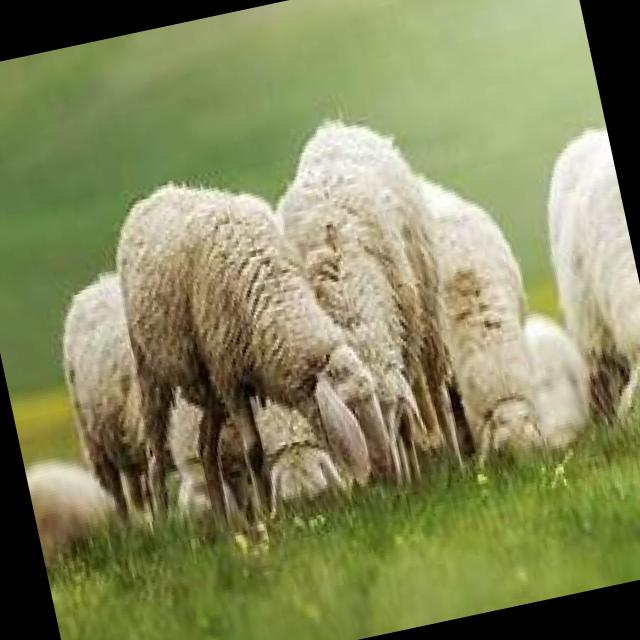animal: (86, 143, 403, 554), (254, 101, 483, 505), (44, 258, 205, 526), (521, 120, 640, 438), (23, 444, 127, 570)
